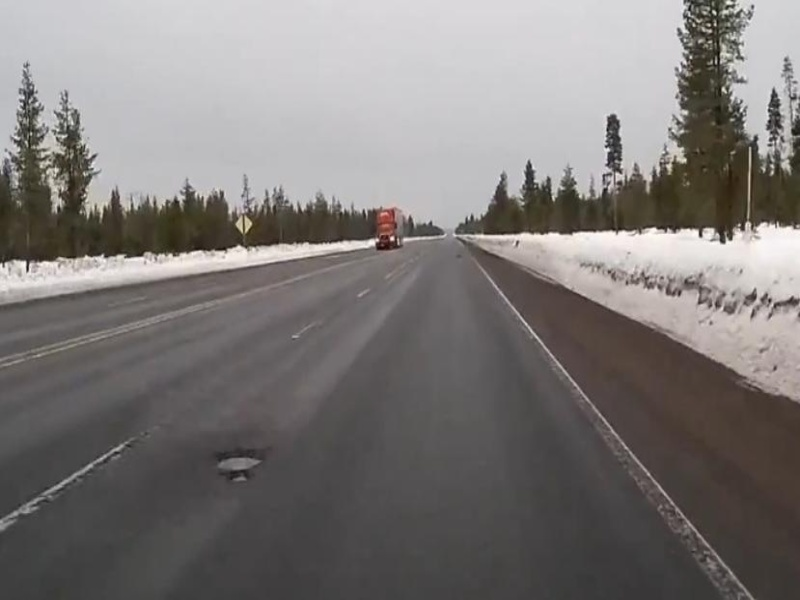pothole: (210, 449, 266, 484)
